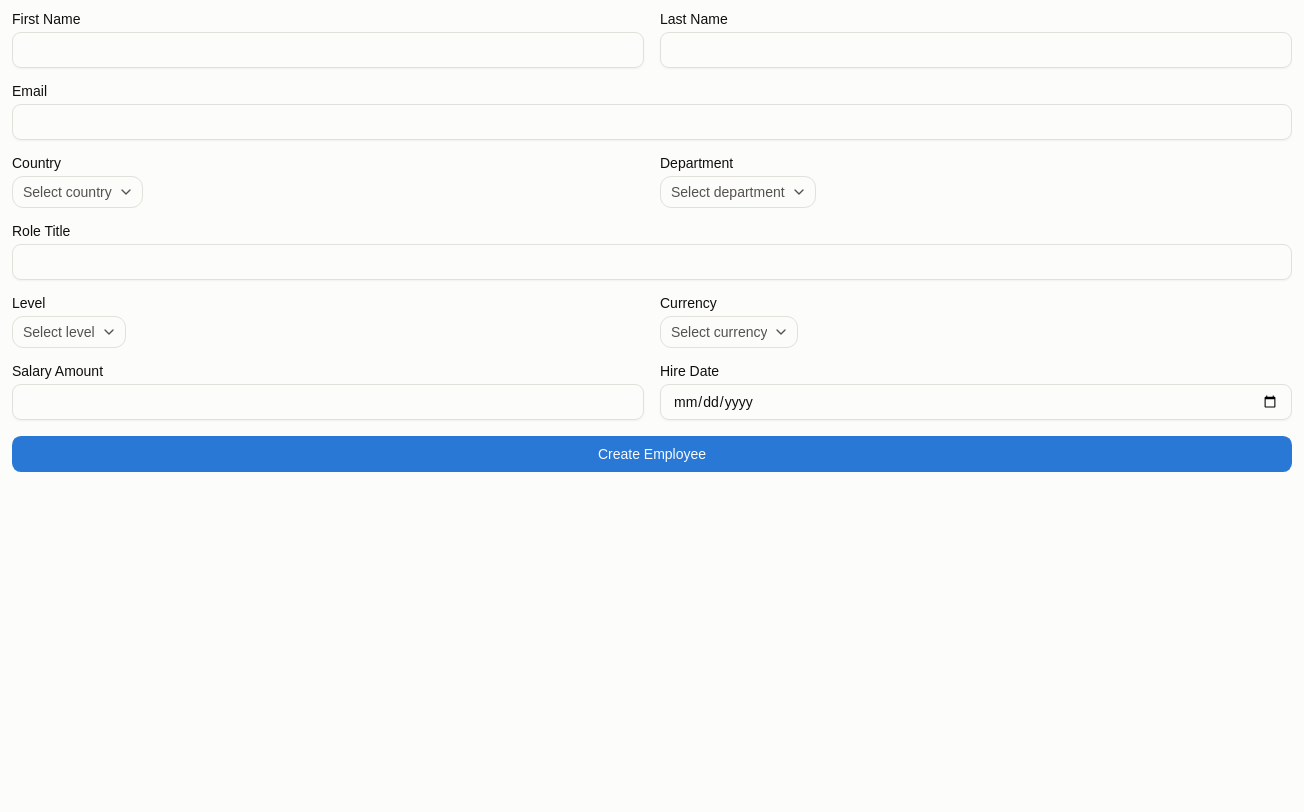
Test case: CreateEmployeeForm › shows a validation error for an invalid email
The width and height of the screenshot is (1304, 812).
Type "Priya" into the field labelled "First Name" at (328, 50), box [12,32,644,68]
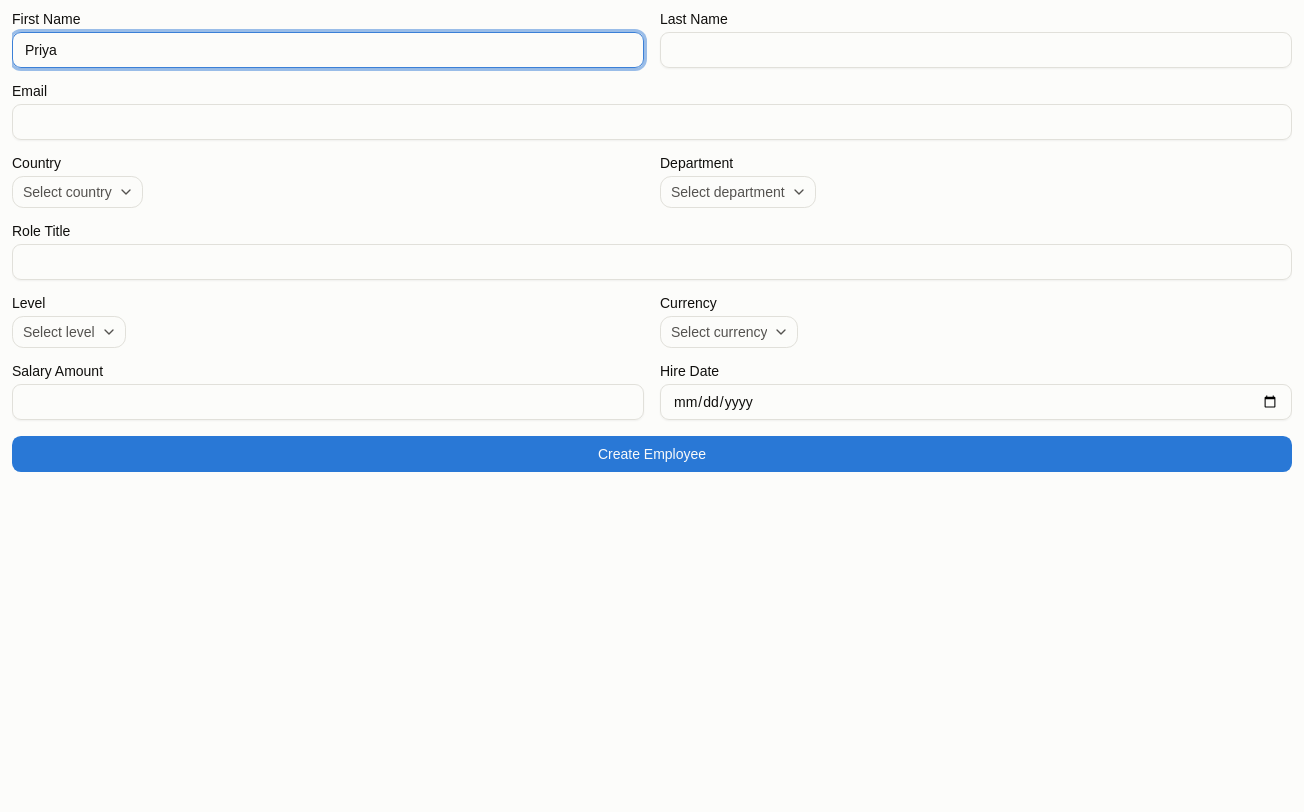
Type "not-an-email" into the field labelled "Email" at (652, 122), box [12,104,1292,140]
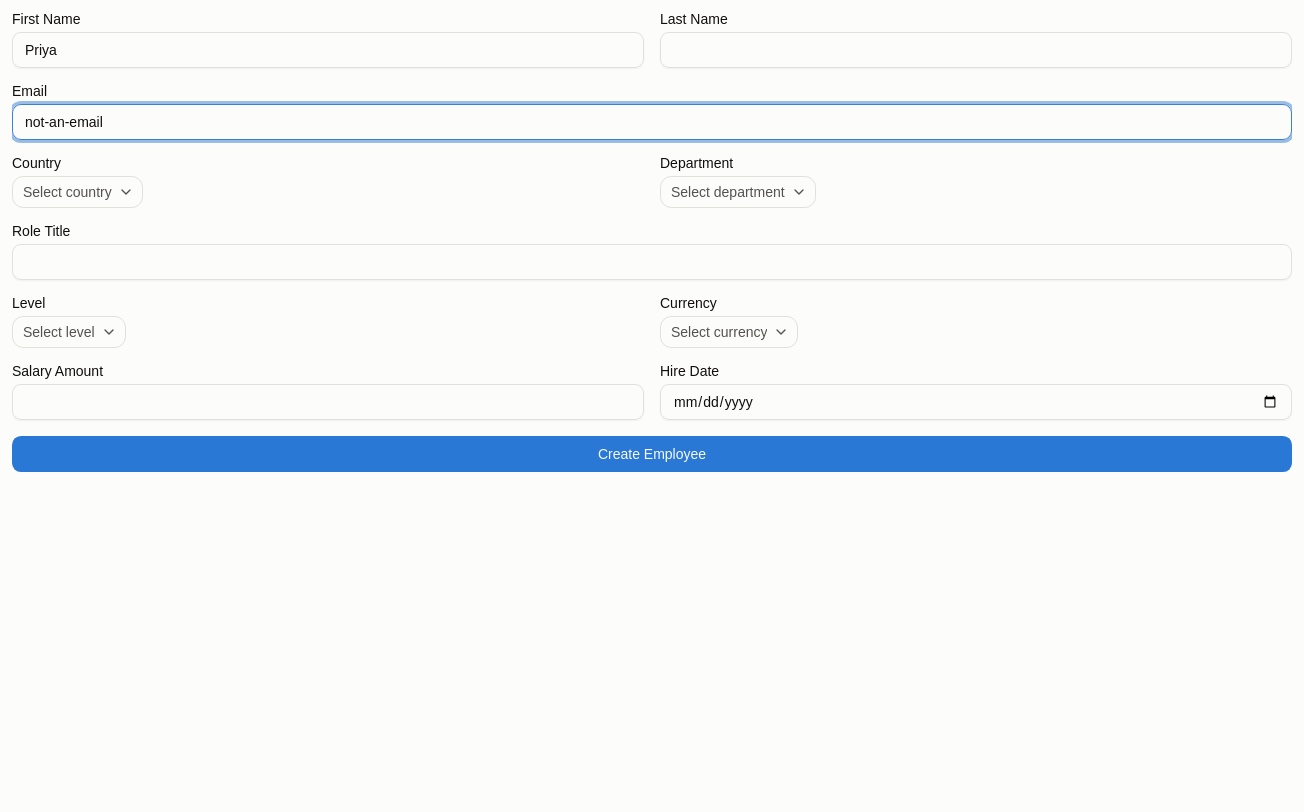
Click the button "Create Employee" at (652, 454), box [12,436,1292,472]
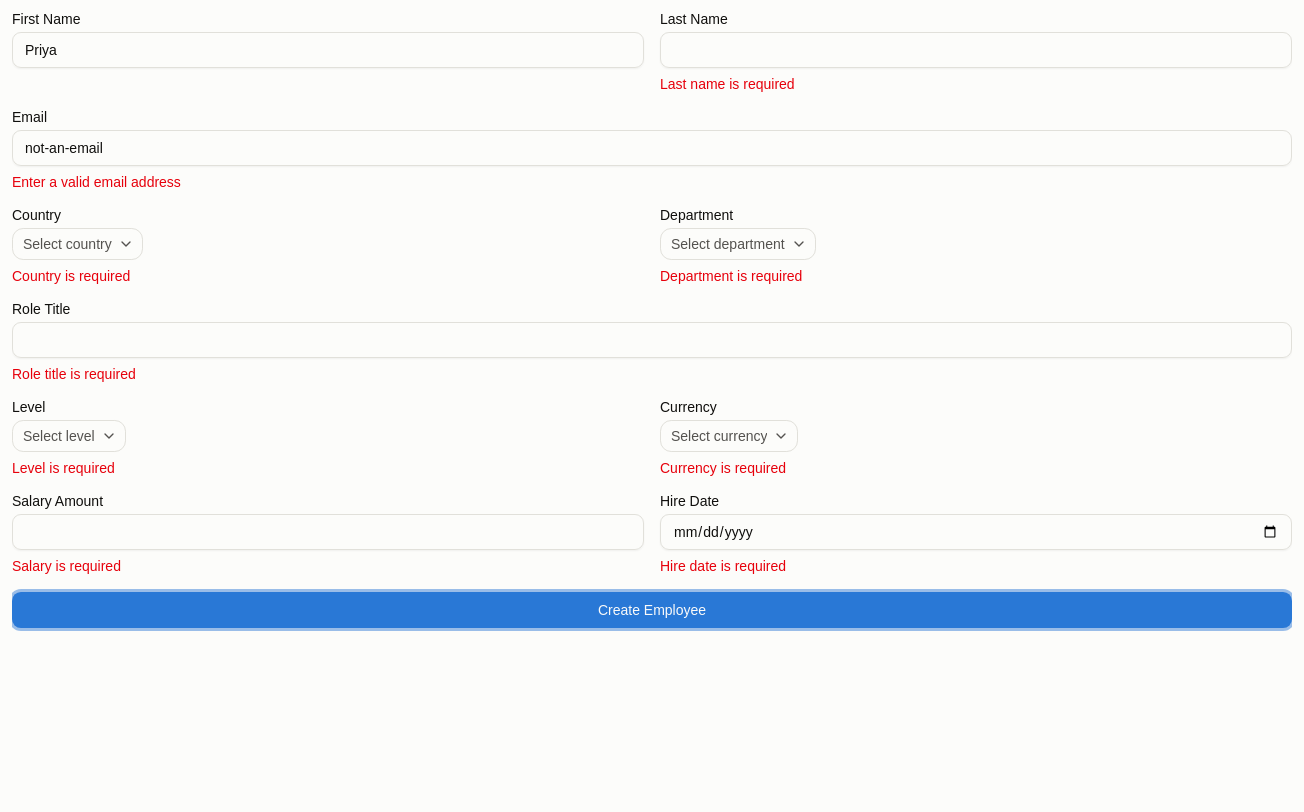
Check: the text "Enter a valid email address" is shown, box [12,174,181,190]
